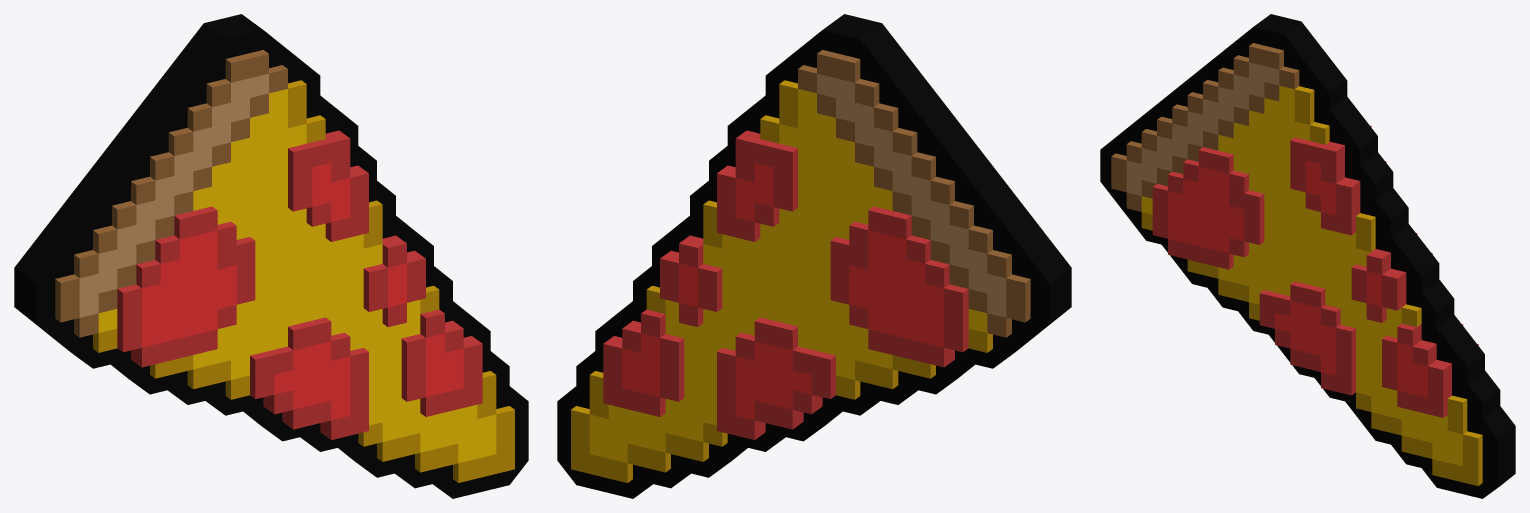
The model's file is pizza.glb.
The picture shows the model from 3 angles, left to right: view 1: azimuth 30°, elevation 25°; view 2: azimuth 150°, elevation 25°; view 3: azimuth 330°, elevation 25°; orthographic projection. The views are drawn at different scales.
Parts seen in each view (by area): view 1: generated(Clone); view 2: generated(Clone); view 3: generated(Clone).
Part boxes in pixels (x1,y1,x2,y2): generated(Clone): (14, 14, 528, 498); generated(Clone): (557, 14, 1071, 498); generated(Clone): (1100, 14, 1515, 498).
Size of the model in its own units: 26 by 26 by 4.
